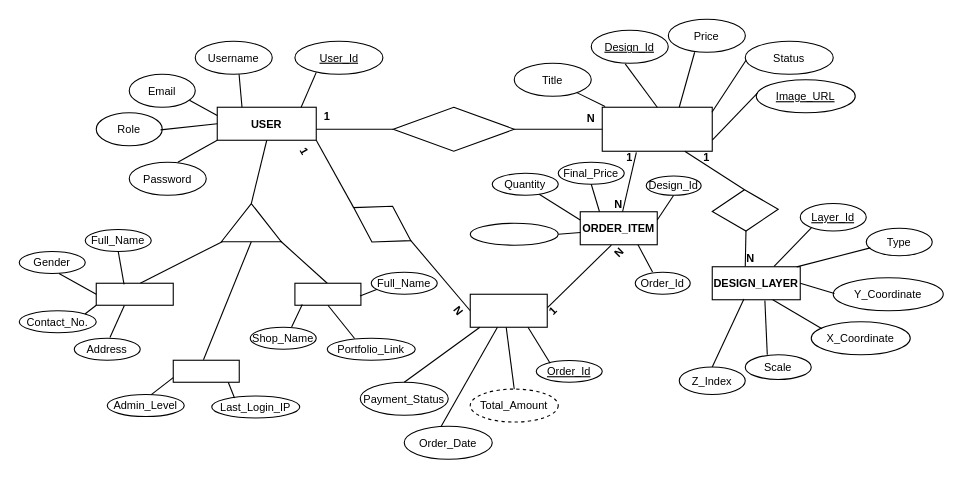
Image size: 963x479. Some labels were removed from this diagram. Here are the shapes that lost their labels. From the top down, the centre of each, then its label:
the point at 453,128: creates
the point at 656,128: DESIGN
the point at 250,222: ISA (O)
the point at 381,223: places
the point at 744,209: has
the point at 513,233: Order_Item_Id
the point at 134,293: CUSTOMER
the point at 327,293: DESIGNER
the point at 508,310: ORDER
the point at 205,370: ADMIN
